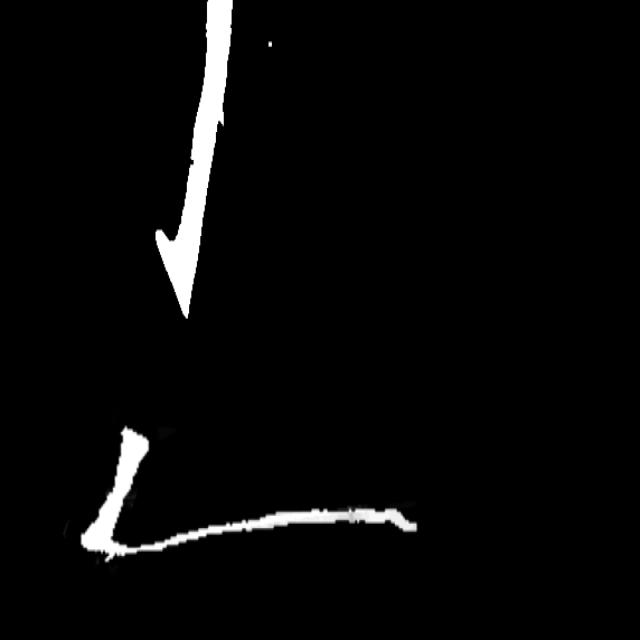sup_pli: (100, 546, 121, 570)
